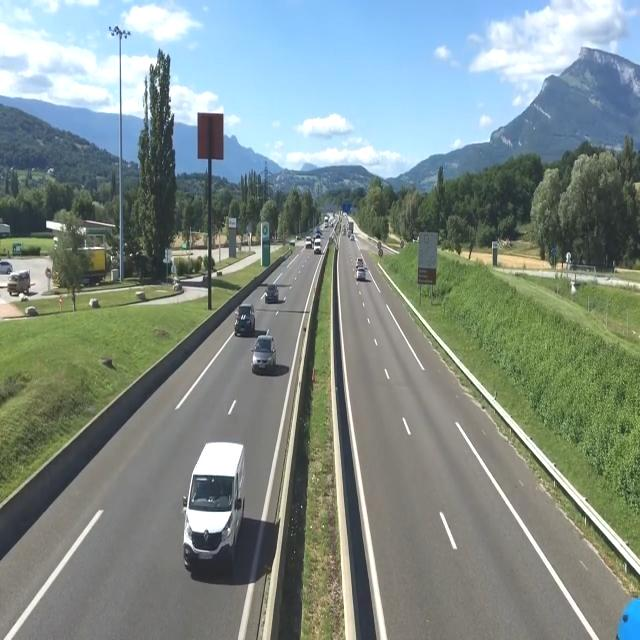Car: (184, 438, 250, 580), (250, 335, 279, 380), (235, 300, 259, 334), (263, 280, 282, 306), (354, 266, 368, 282), (302, 236, 314, 252), (355, 256, 365, 267)
Truck: (314, 231, 325, 257)
